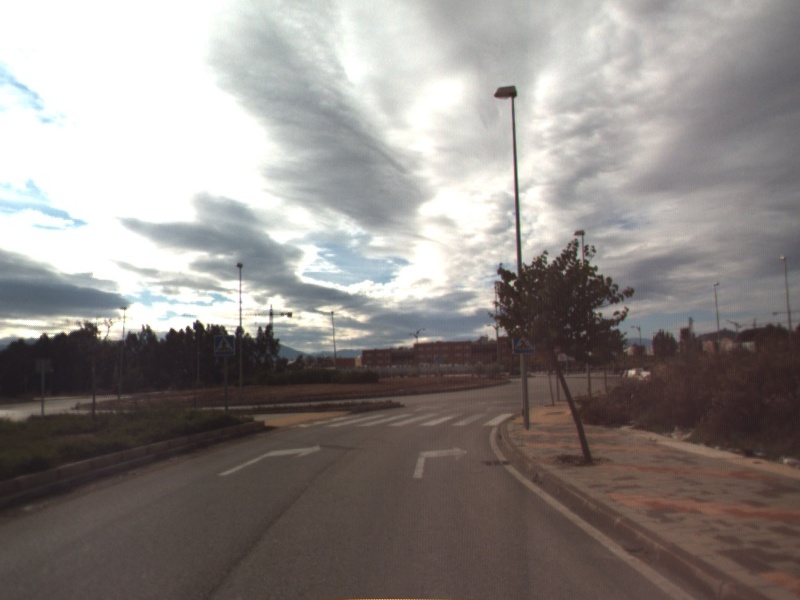RIGHT: (216, 441, 324, 478), (411, 442, 470, 481)
